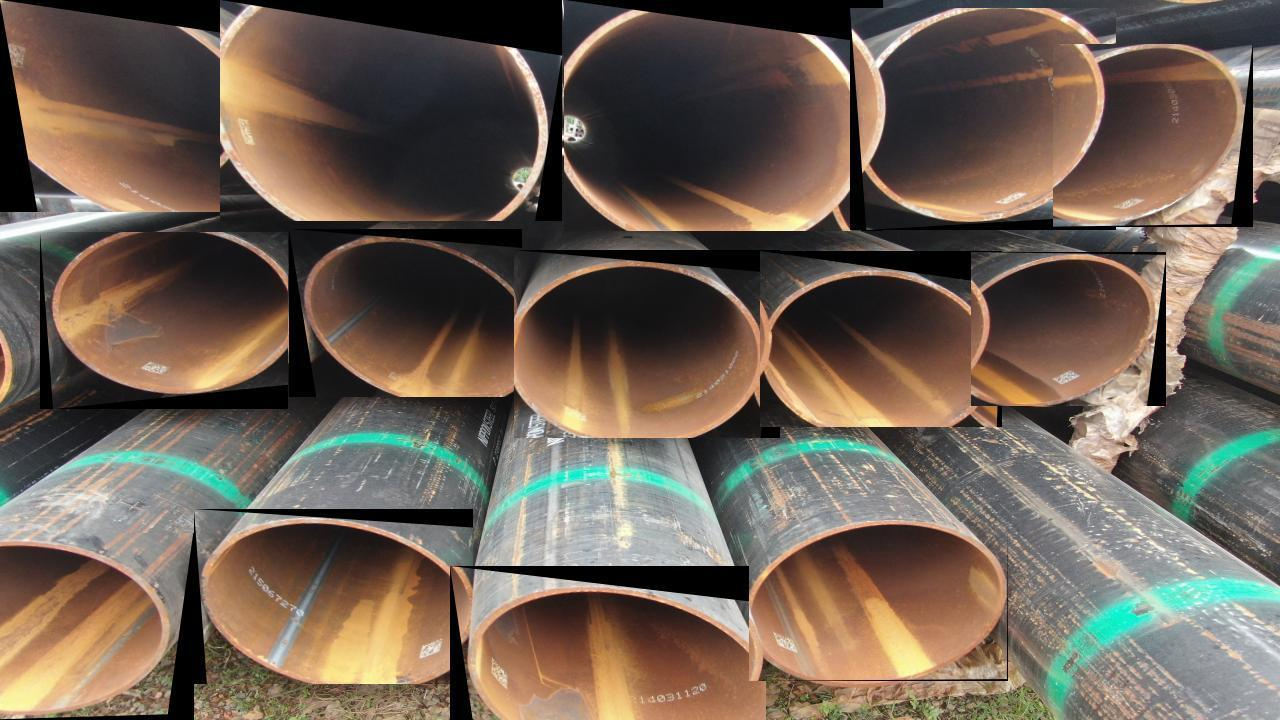pipe: (220, 0, 562, 221), (564, 0, 883, 231), (850, 8, 1116, 230), (0, 0, 260, 212), (514, 250, 780, 438), (194, 509, 473, 684), (450, 566, 766, 720), (40, 232, 288, 409), (760, 251, 1002, 427), (749, 522, 1008, 681), (289, 229, 522, 397), (1054, 44, 1254, 227), (0, 533, 194, 720), (971, 252, 1166, 406)
